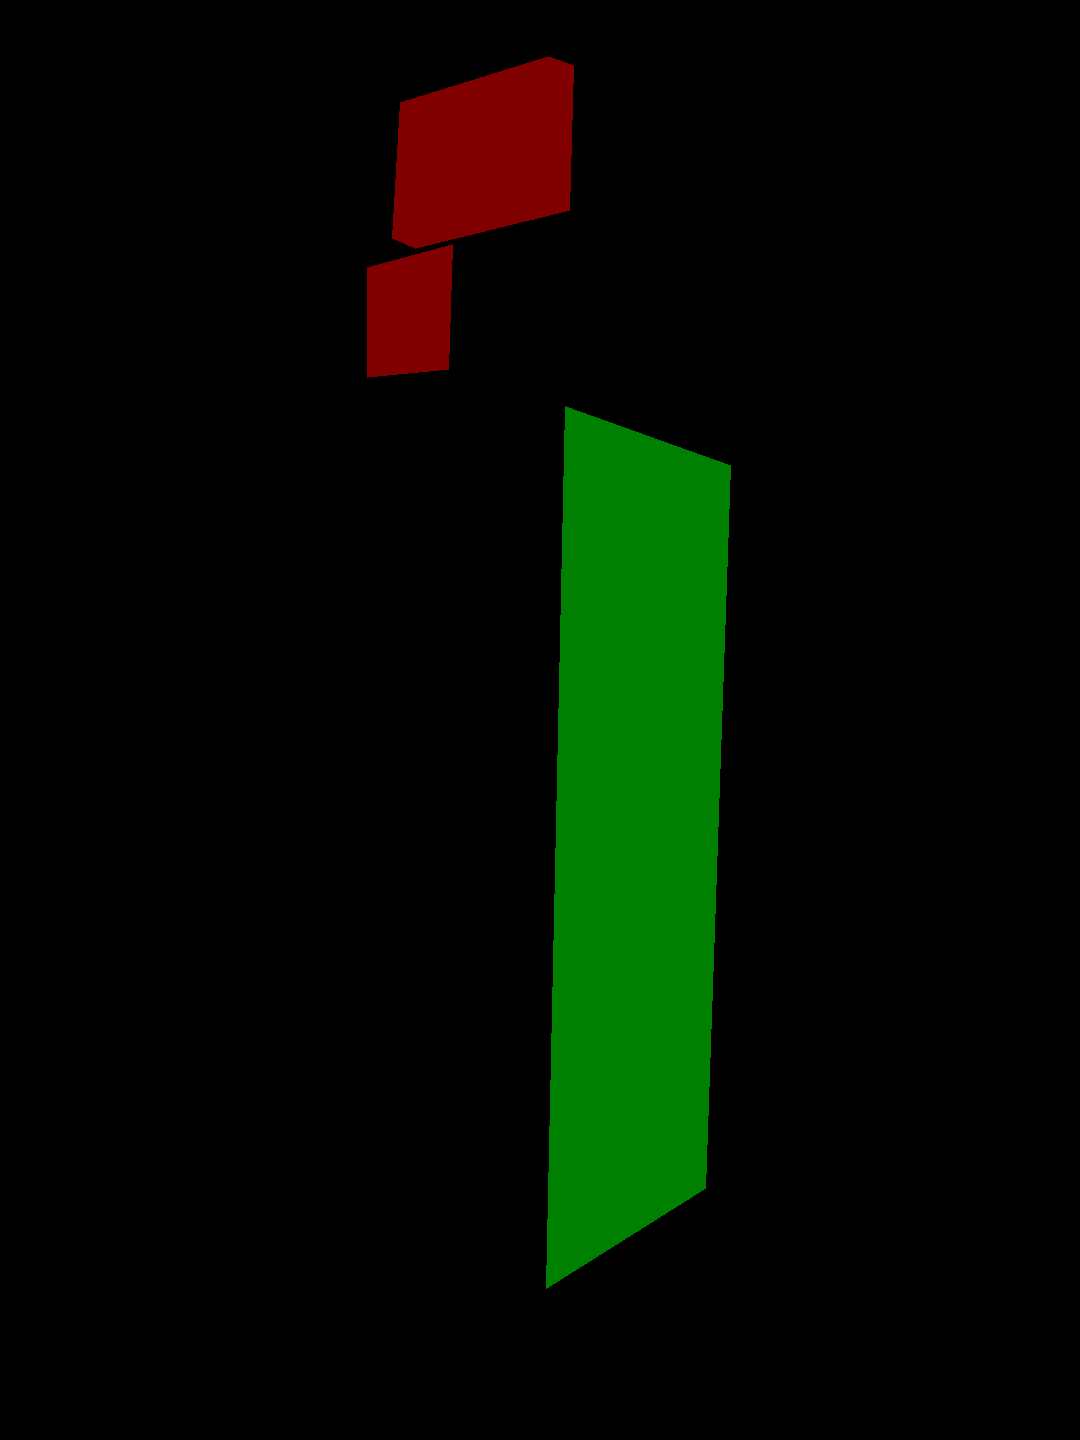door: (546, 406, 729, 1288)
sign: (393, 56, 573, 248), (368, 244, 452, 376)
